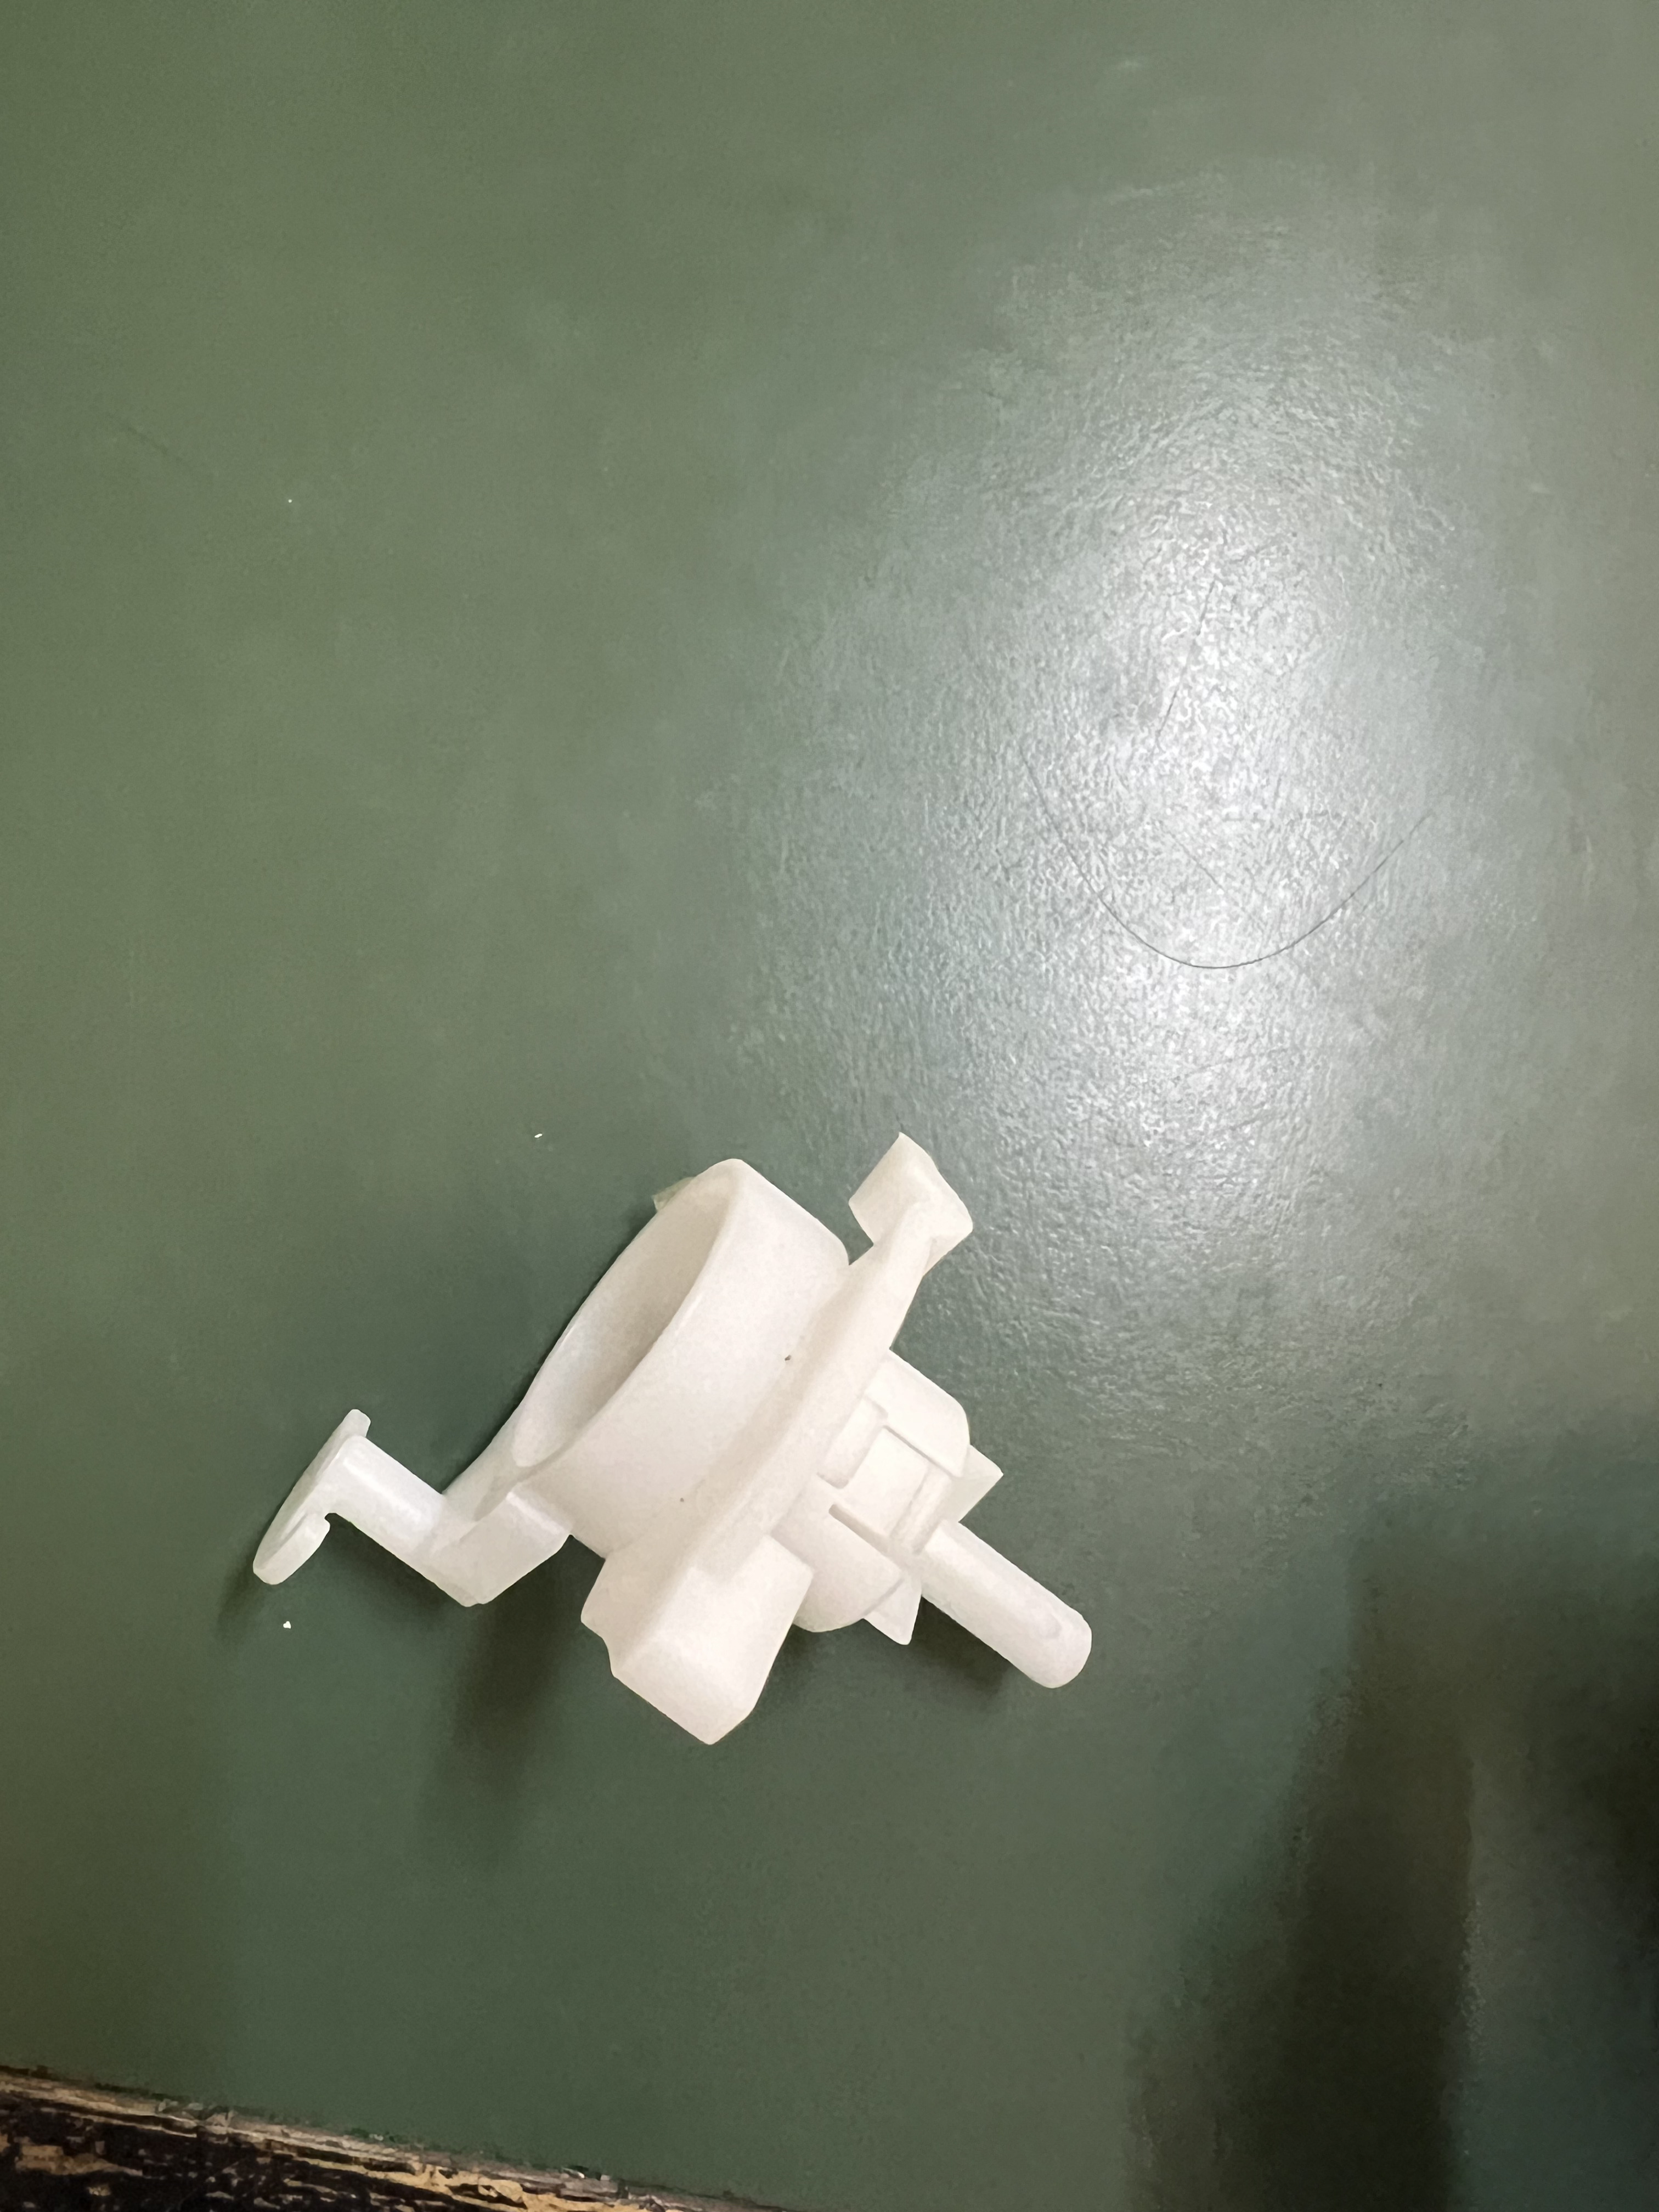drain_lever: (157, 1108, 1148, 1768)
